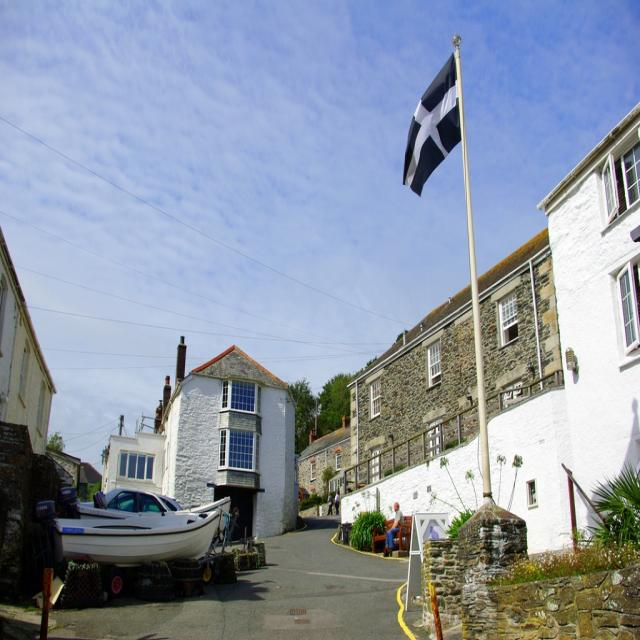Boat: (50, 507, 221, 569)
